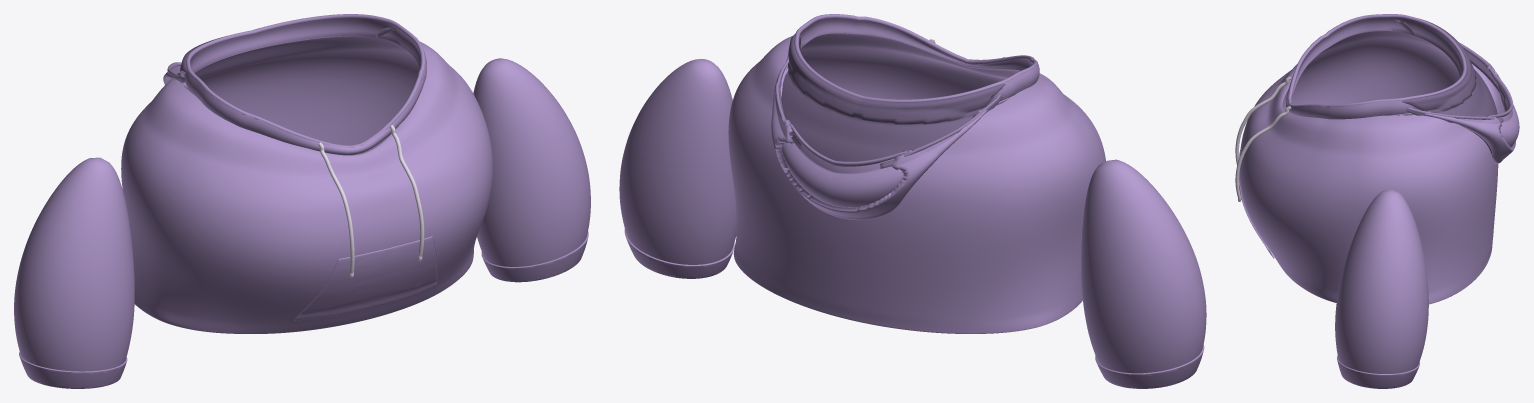
The model's file is Feminine-sweatshirt-top.glb.
The picture shows the model from 3 angles, left to right: view 1: azimuth 30°, elevation 25°; view 2: azimuth 150°, elevation 25°; view 3: azimuth 270°, elevation 25°; orthographic projection. The views are drawn at different scales.
Parts seen in each view (by area): view 1: Clothing / tailored203.001, Sleeve / full fabric wrap201 -1.001, Sleeve / full fabric wrap201 1.001, Hoodie / attached opening204.001, Hoodie / seated pouch202.001, Hoodie / rolled opening204.001, Sleeve / shaped cuff202 -1.001, Sleeve / shaped cuff202 1.001, Hoodie / front seated cord205 -1.001, Hoodie / front seated cord205 1.001, Hoodie / shallow resting pouch206.001; view 2: Clothing / tailored203.001, Sleeve / full fabric wrap201 -1.001, Hoodie / shallow resting pouch206.001, Sleeve / full fabric wrap201 1.001, Hoodie / attached opening204.001, Hoodie / rolled opening204.001, Sleeve / shaped cuff202 -1.001, Sleeve / shaped cuff202 1.001; view 3: Clothing / tailored203.001, Sleeve / full fabric wrap201 1.001, Hoodie / shallow resting pouch206.001, Hoodie / attached opening204.001, Hoodie / rolled opening204.001, Sleeve / shaped cuff202 1.001, Hoodie / front seated cord205 1.001, Hoodie / front seated cord205 -1.001.
Boxes of the visible parts, x1,y1,x2,y2 form: Clothing / tailored203.001: [121, 35, 492, 333]; Sleeve / full fabric wrap201 -1.001: [14, 157, 134, 371]; Sleeve / full fabric wrap201 1.001: [473, 58, 590, 266]; Hoodie / attached opening204.001: [183, 18, 426, 155]; Hoodie / seated pouch202.001: [295, 236, 436, 320]; Hoodie / rolled opening204.001: [186, 14, 425, 147]; Sleeve / shaped cuff202 -1.001: [19, 352, 127, 388]; Sleeve / shaped cuff202 1.001: [481, 231, 588, 282]; Hoodie / front seated cord205 -1.001: [318, 142, 354, 273]; Hoodie / front seated cord205 1.001: [389, 125, 424, 256]; Hoodie / shallow resting pouch206.001: [163, 27, 396, 84]; Clothing / tailored203.001: [728, 32, 1105, 333]; Sleeve / full fabric wrap201 -1.001: [1081, 159, 1206, 373]; Hoodie / shallow resting pouch206.001: [771, 32, 1005, 220]; Sleeve / full fabric wrap201 1.001: [619, 59, 736, 264]; Hoodie / attached opening204.001: [799, 18, 1039, 105]; Hoodie / rolled opening204.001: [794, 14, 1037, 101]; Sleeve / shaped cuff202 -1.001: [1095, 344, 1204, 388]; Sleeve / shaped cuff202 1.001: [624, 229, 734, 278]; Clothing / tailored203.001: [1239, 30, 1498, 304]; Sleeve / full fabric wrap201 1.001: [1335, 189, 1428, 373]; Hoodie / shallow resting pouch206.001: [1391, 18, 1519, 163]; Hoodie / attached opening204.001: [1286, 17, 1462, 119]; Hoodie / rolled opening204.001: [1287, 14, 1466, 107]; Sleeve / shaped cuff202 1.001: [1337, 356, 1419, 388]; Hoodie / front seated cord205 1.001: [1235, 106, 1291, 198]; Hoodie / front seated cord205 -1.001: [1235, 76, 1291, 165].
Size of the model in its own units: 1.06 by 0.4801 by 0.5423.
